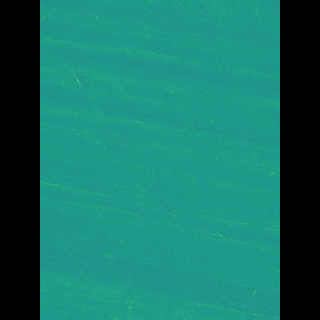Loch: (158, 0, 231, 320), (69, 80, 249, 153)
